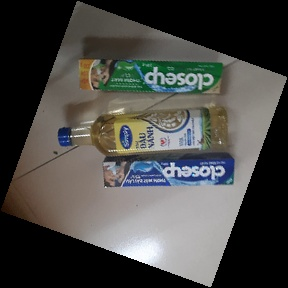CloseUp Tuyet: (101, 152, 236, 190)
CloseUp Xanh: (76, 55, 225, 98)
Simply: (56, 106, 230, 155)
